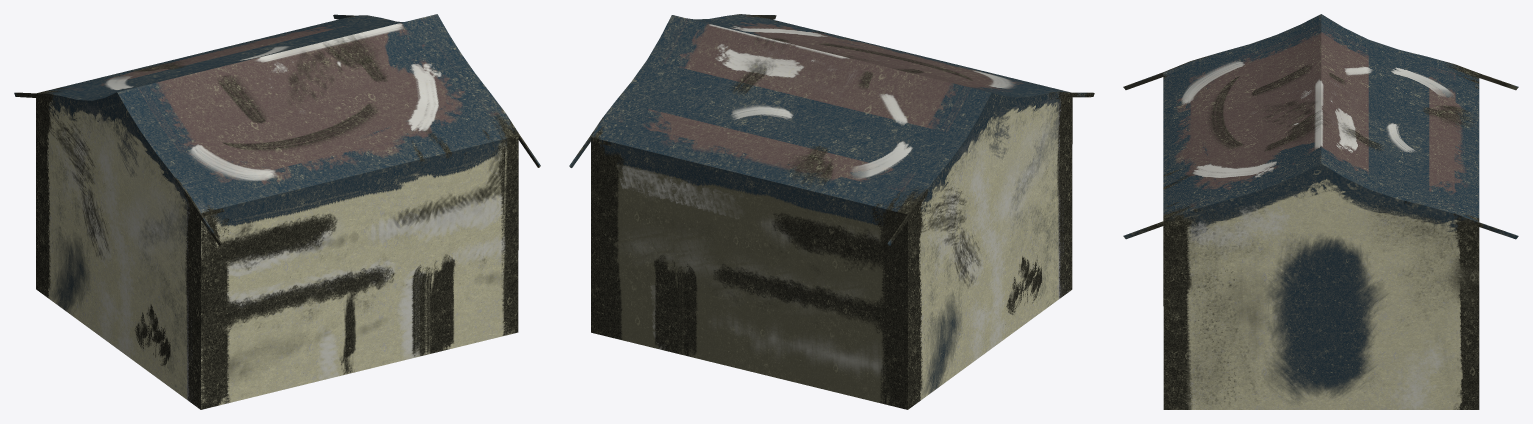
Rendered from CASA 2.fbx.
The picture shows the model from 3 angles, left to right: view 1: azimuth 30°, elevation 25°; view 2: azimuth 150°, elevation 25°; view 3: azimuth 270°, elevation 25°; orthographic projection. The views are drawn at different scales.
Visible parts, largest first — view 1: casa 2; view 2: casa 2; view 3: casa 2.
Part boxes in pixels (box(x1,y1,x2,y2)): casa 2: box(14, 14, 540, 409); casa 2: box(569, 14, 1094, 409); casa 2: box(1123, 14, 1518, 409).
Size of the model in its own units: 390 by 300 by 435.
1 material, 1 textured.
